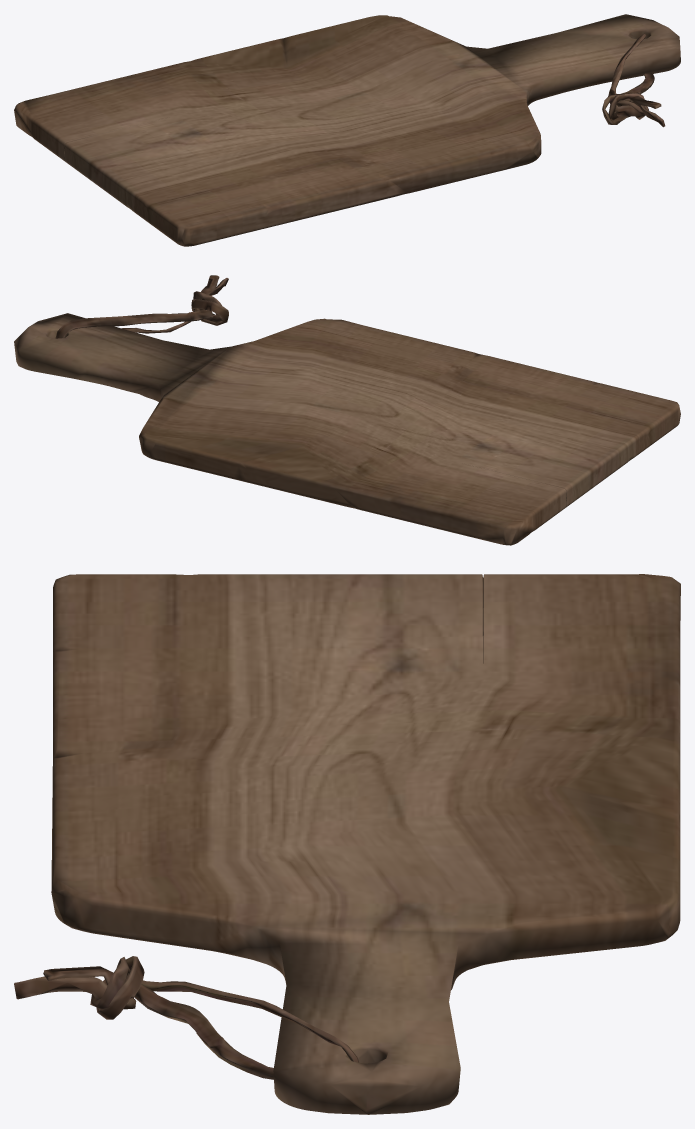
File: utensil_cuttingBoard_wooden_a01.glb
The picture shows the model from 3 angles, top to bottom: view 1: azimuth 30°, elevation 25°; view 2: azimuth 150°, elevation 25°; view 3: azimuth 270°, elevation 25°; orthographic projection. The views are drawn at different scales.
Parts seen in each view (by area): view 1: sm_utensil_cuttingBoard_wooden_a01_01; view 2: sm_utensil_cuttingBoard_wooden_a01_01; view 3: sm_utensil_cuttingBoard_wooden_a01_01.
Part boxes in pixels (box(x1,y1,x2,y2)): sm_utensil_cuttingBoard_wooden_a01_01: box(14, 14, 680, 246); sm_utensil_cuttingBoard_wooden_a01_01: box(14, 275, 680, 545); sm_utensil_cuttingBoard_wooden_a01_01: box(14, 574, 680, 1114).
Size of the model in its own units: 0.4458 by 0.0264 by 0.2471.
Materials: 2 (2 with a texture image).
